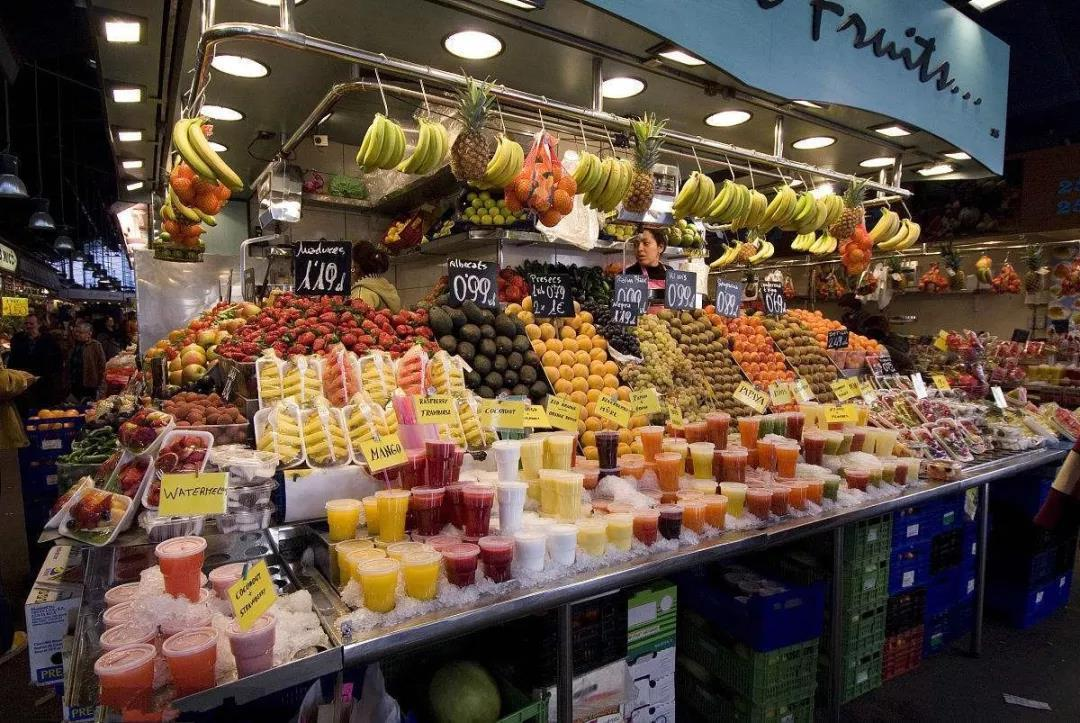apple: (169, 169, 230, 215)
